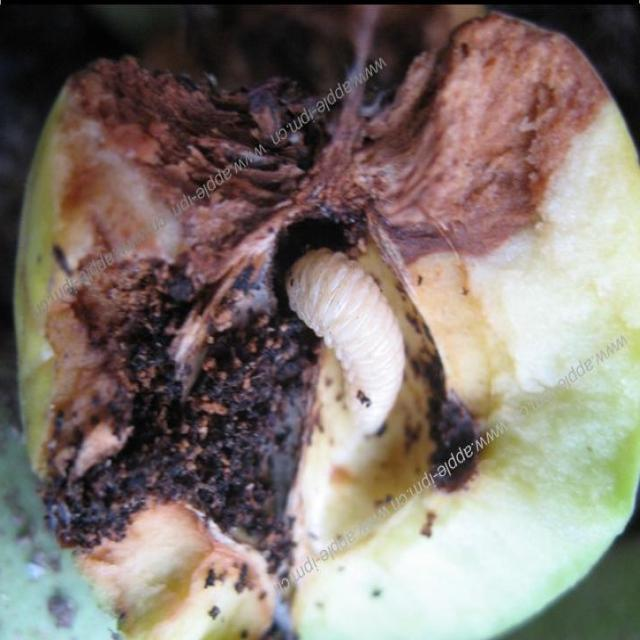peach borer: (278, 238, 409, 438)
